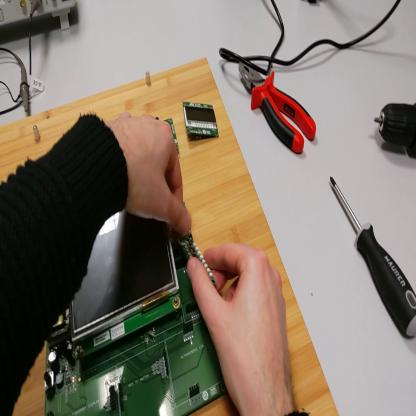electric screwdriver: (375, 102, 416, 158)
hand: (188, 245, 300, 416), (110, 112, 190, 237)
low voltage board: (47, 216, 231, 416)
oscilloscope: (1, 2, 77, 37)
oscilloscope probe tip: (15, 56, 31, 115)
pliers: (239, 60, 317, 157)
screwdriver-: (330, 174, 416, 339)
working area: (2, 55, 339, 416)
